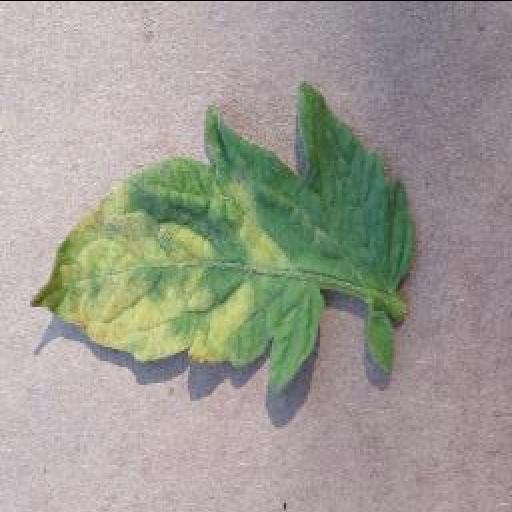disease_tomato: (27, 81, 417, 393)
